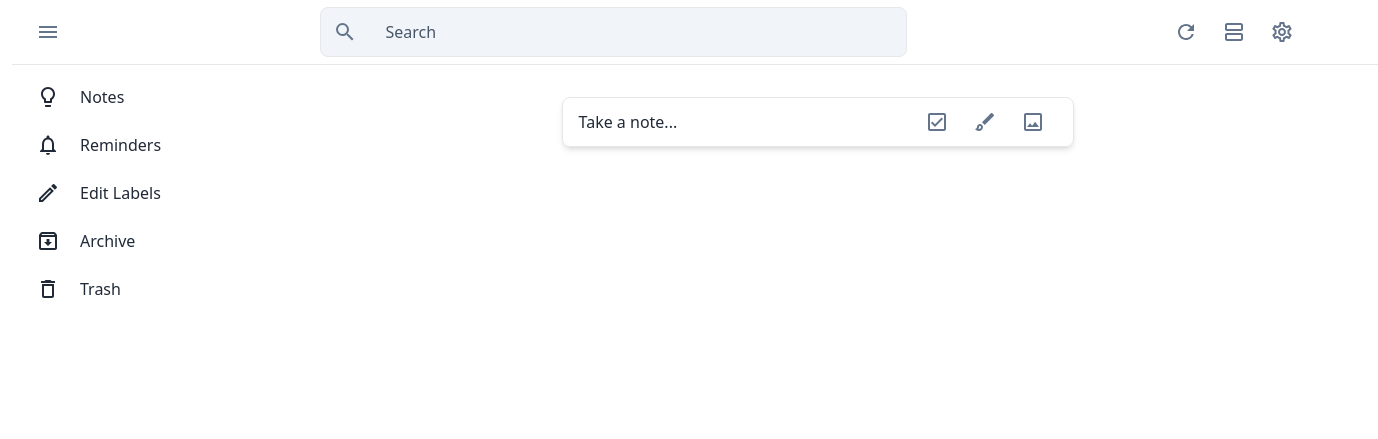
Test: tabs go to their respective pages › clicking the archive tab opens the archive page
The width and height of the screenshot is (1378, 439).
Click the button "Archive" at x=135, y=241, box x1=12 y1=217 x2=257 y2=265
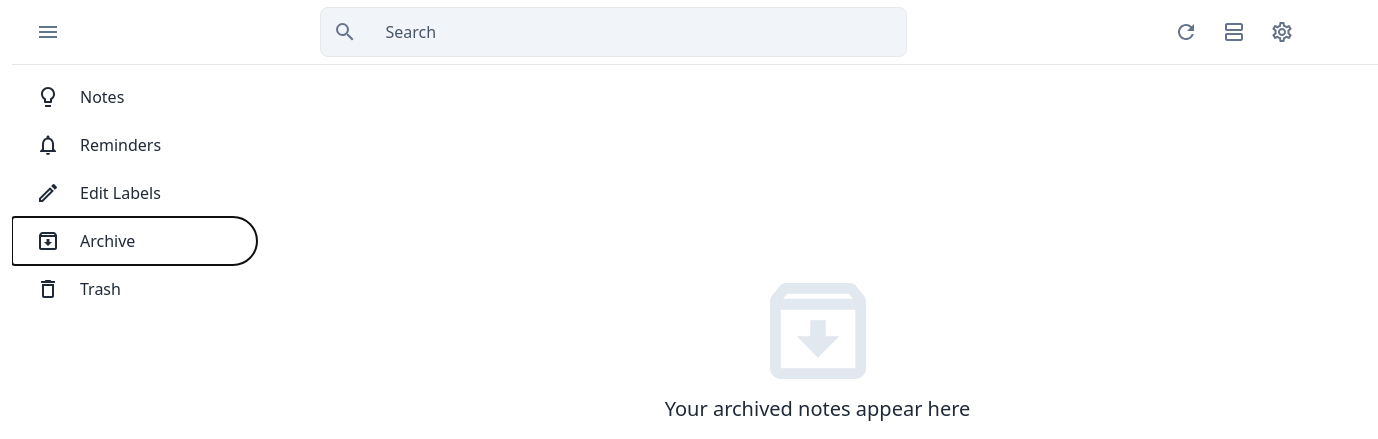
Expected: the heading "Your archived notes appear here" is shown, x1=665 y1=395 x2=970 y2=423
